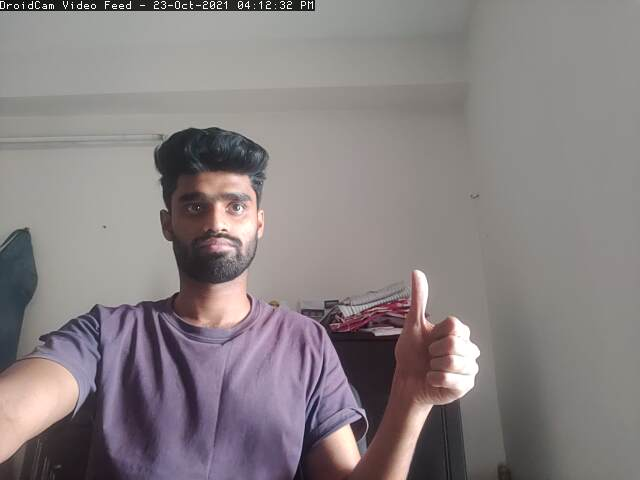ThumbsUp: (390, 267, 483, 406)
